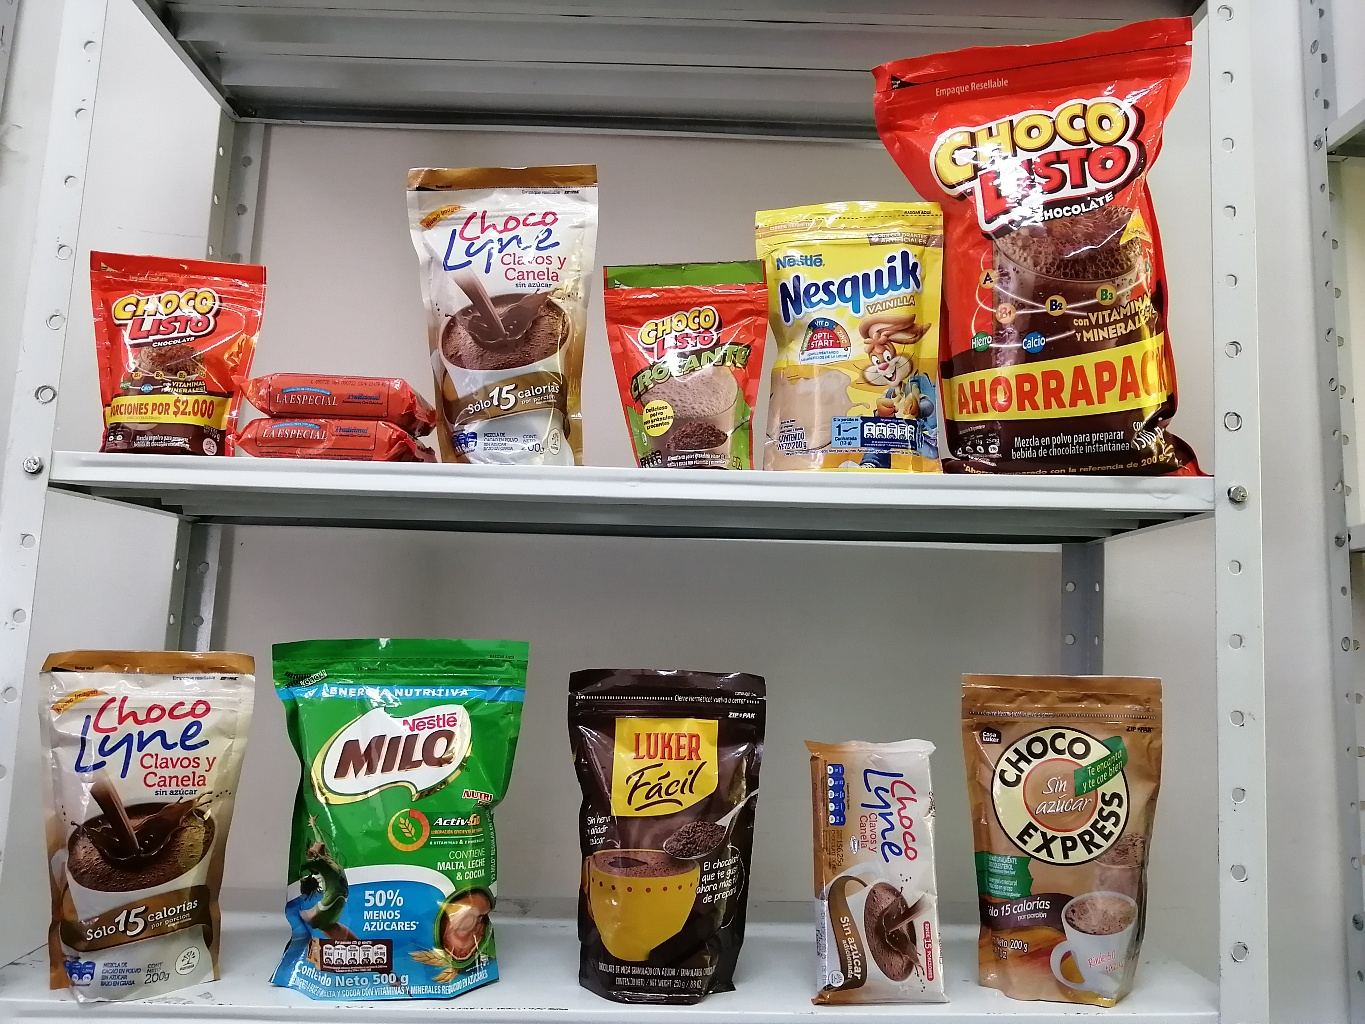COL0170102DYP10000: (589, 248, 773, 464)
COL0170103DYP1,500: (866, 5, 1236, 479)
COL0170103DYP10000: (83, 228, 279, 446)
COL0170205DYP50000: (266, 613, 526, 1007)
COL0170306DYP20000: (762, 197, 950, 466)
